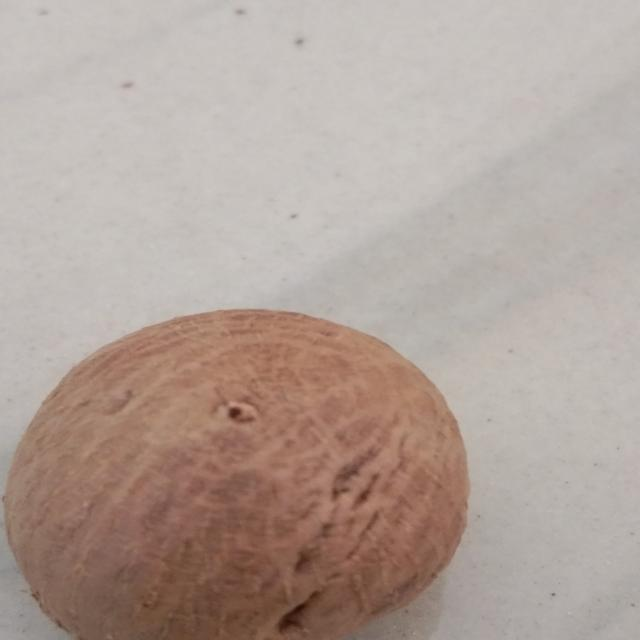phatora: (10, 290, 518, 640)
